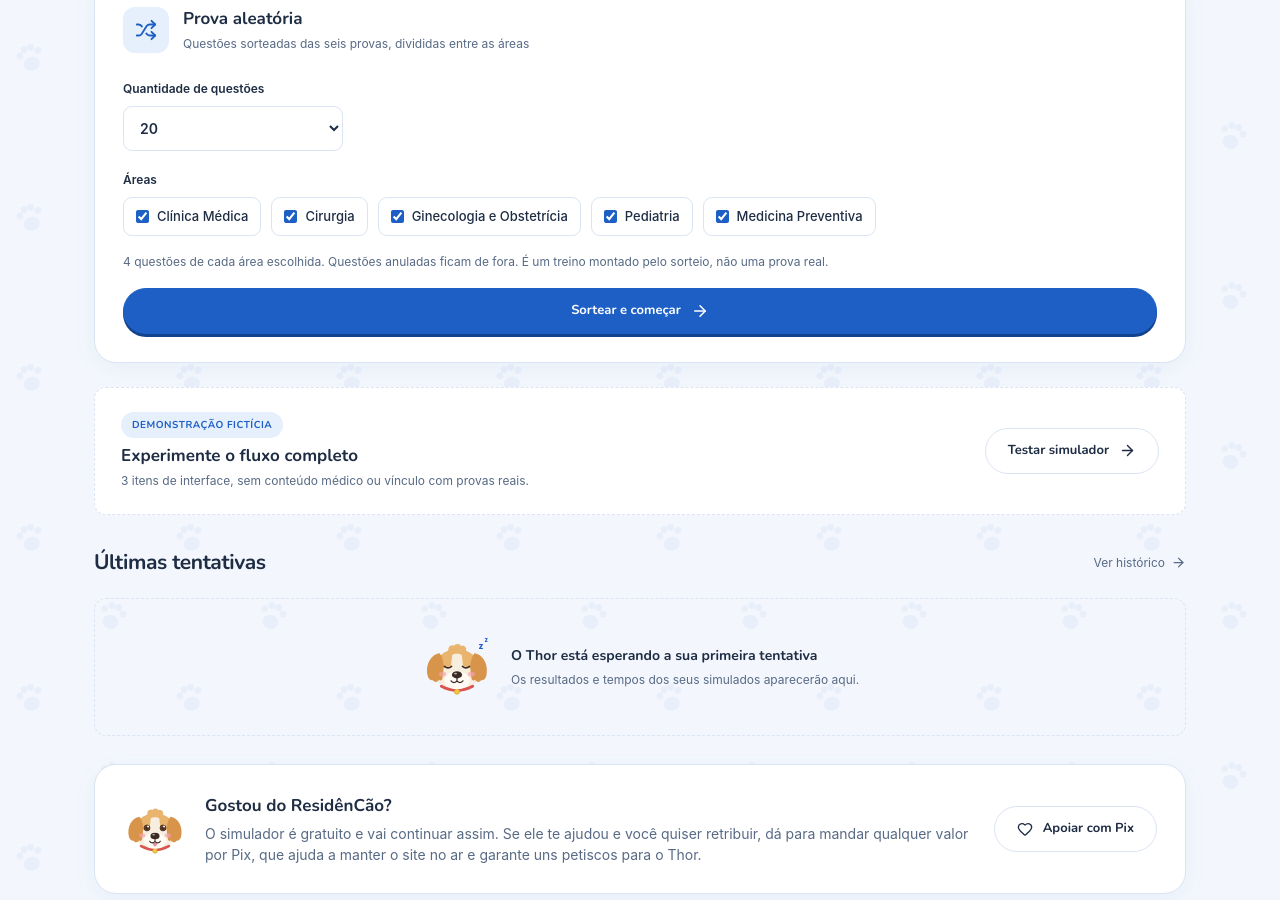
Test: Tela de prova › avisa quando a questão foi anulada
(page scrolled)
Step 1. Click the button "Testar simulador" → click(1072, 451), box top-left (985, 428), bottom-right (1159, 474)
(page scrolled)
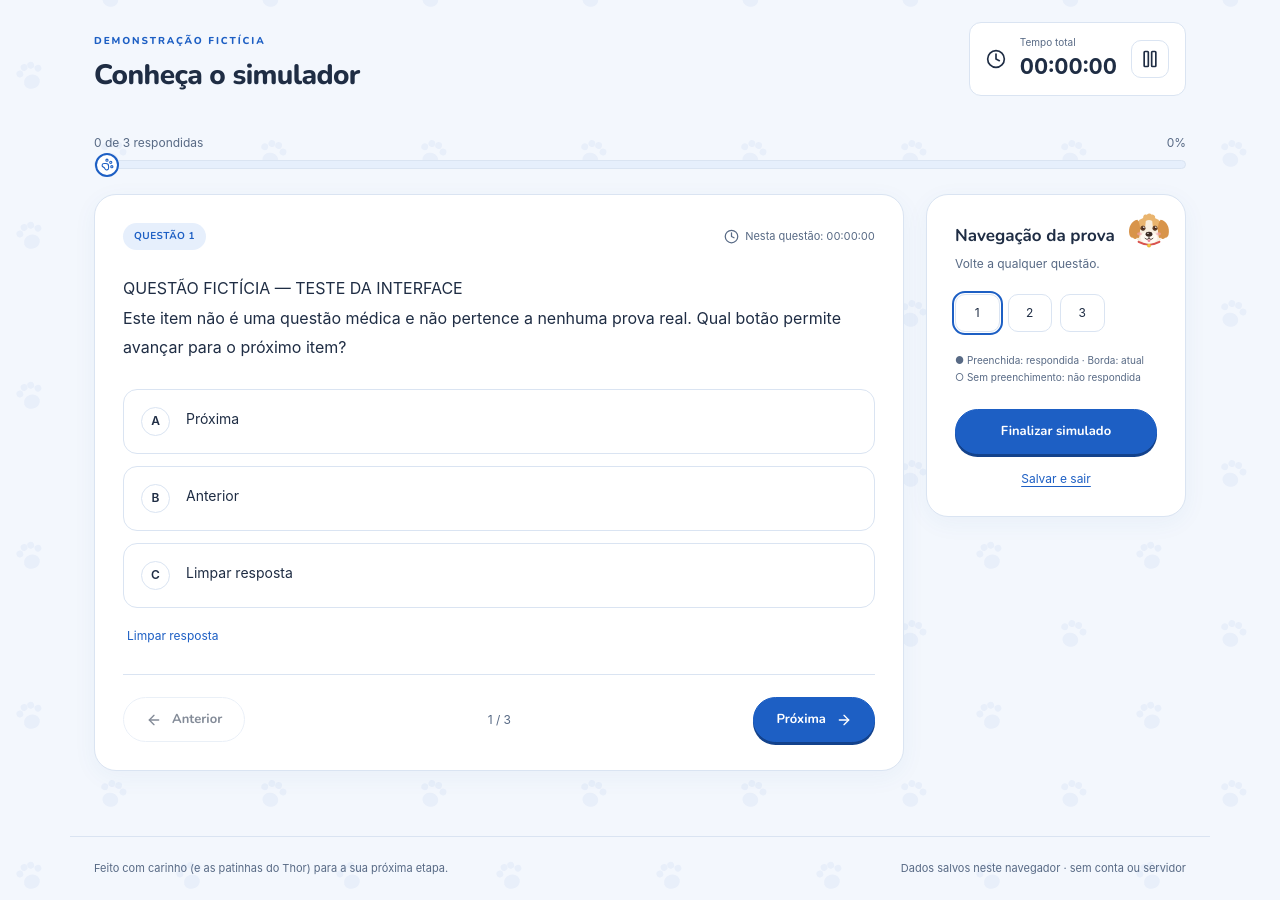
Expected: the text "foi anulada pela banca" is not shown
Result: the heading "Conheça o simulador" is shown at top-left (94, 59), bottom-right (360, 92)
Step 2. Click the button named "Questão 2," → click(1030, 313), box top-left (1008, 294), bottom-right (1052, 332)
(page scrolled)
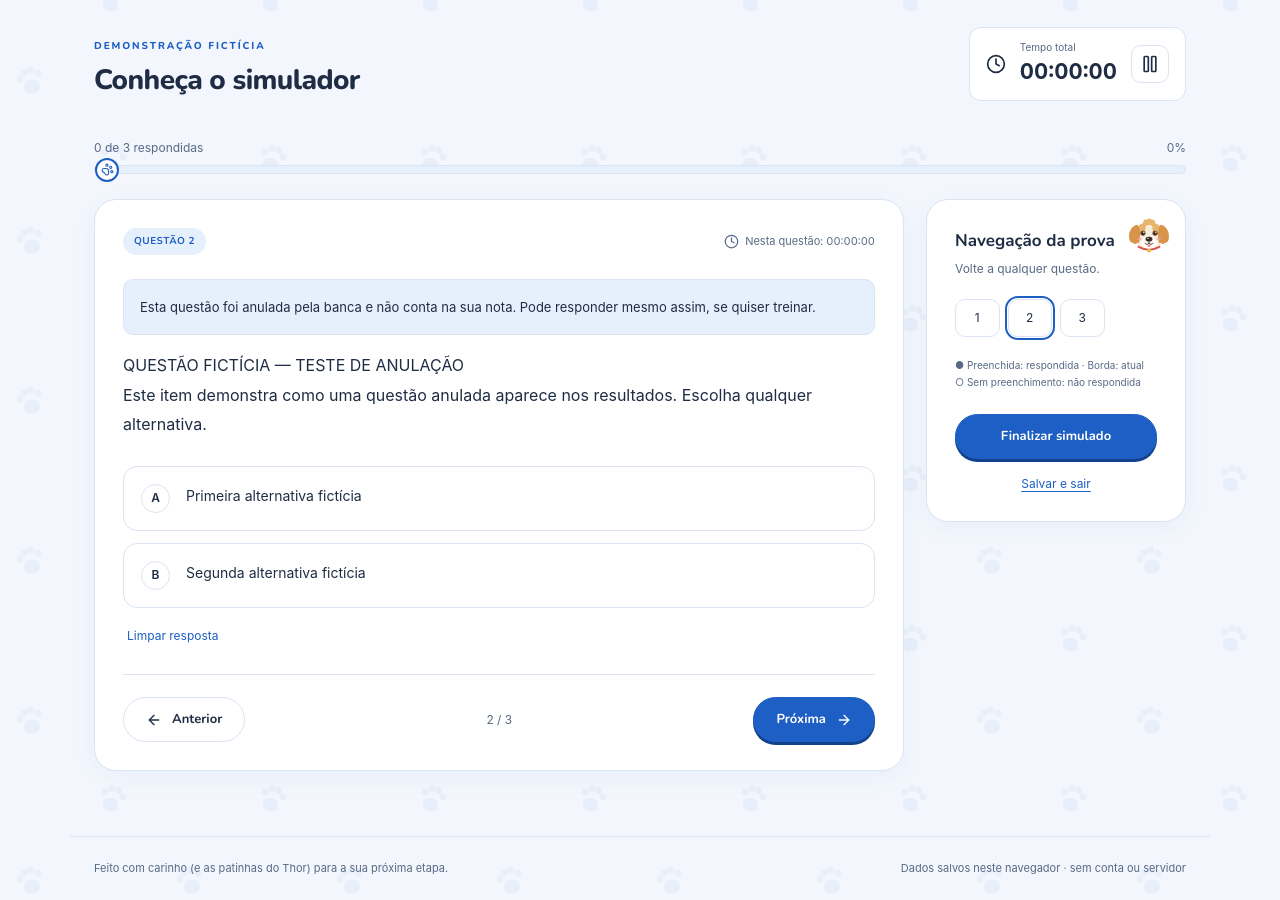
Result: the text "foi anulada pela banca" is shown at top-left (140, 299), bottom-right (816, 315)
